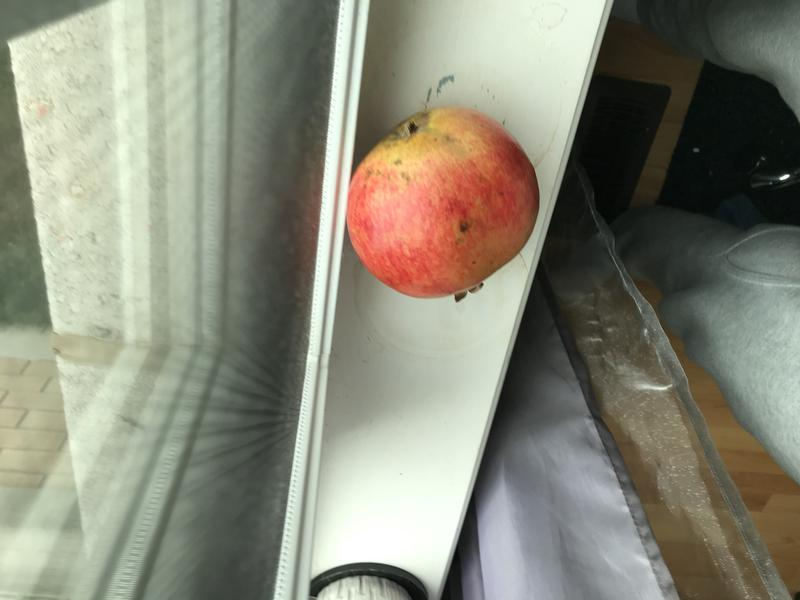pomegranate: (337, 96, 549, 312)
